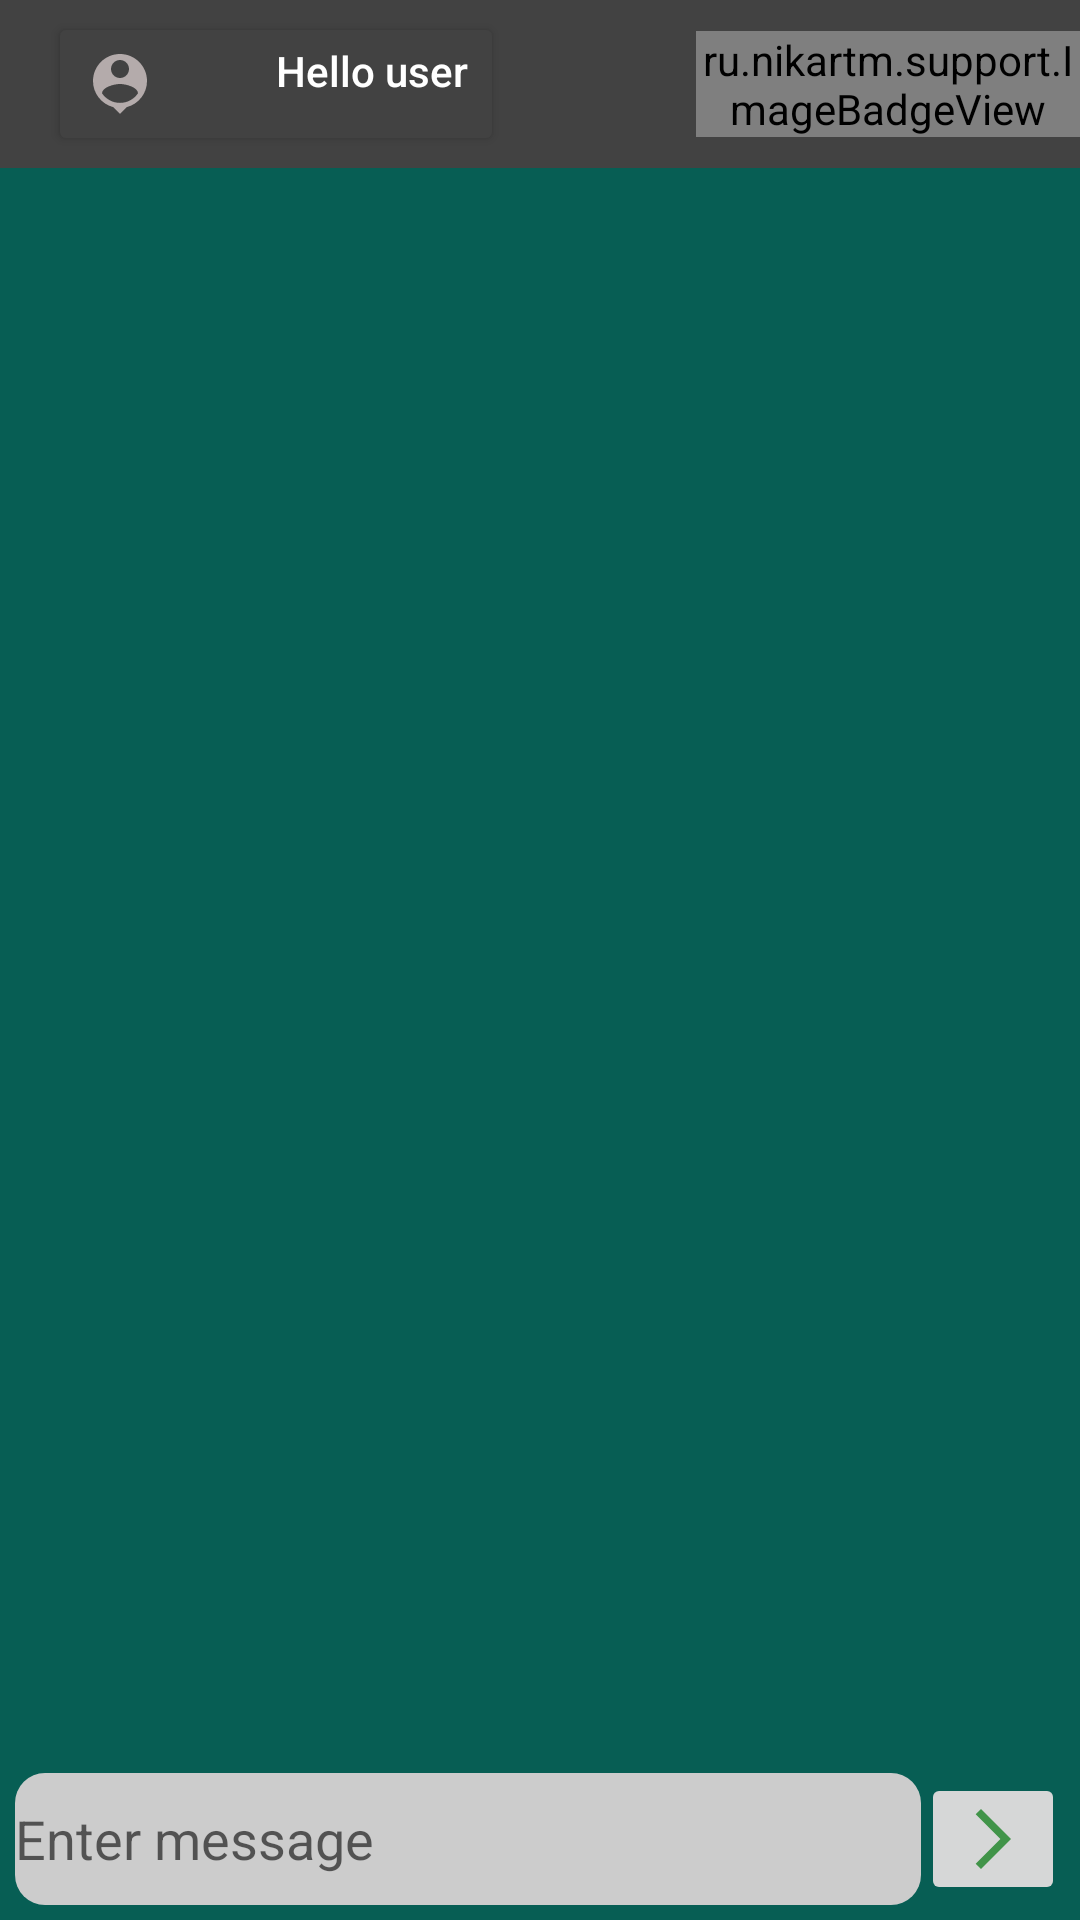

Screen size 1080*1920. Icon name, then its center in pixels as [x,y]:
morearrow: [993,1839]
